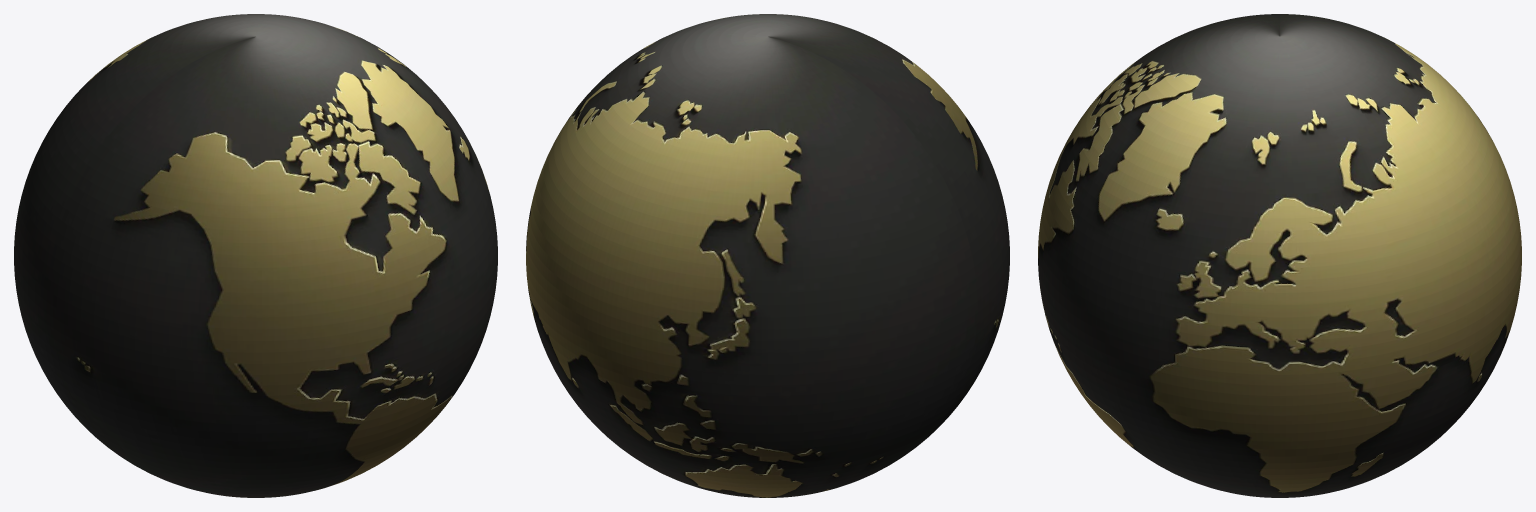
Rendered from 3D_Earth_Map.glb.
The picture shows the model from 3 angles, left to right: view 1: azimuth 30°, elevation 25°; view 2: azimuth 150°, elevation 25°; view 3: azimuth 270°, elevation 25°; orthographic projection.
Visible parts, largest first — view 1: Sphere; view 2: Sphere; view 3: Sphere.
Part boxes in pixels (left/top/right/bottom): Sphere: left=14, top=14, right=497, bottom=497; Sphere: left=526, top=14, right=1009, bottom=497; Sphere: left=1038, top=14, right=1521, bottom=497.
Bounding box in the file's own units: 2 × 2 × 2.
1 material, 1 textured.
